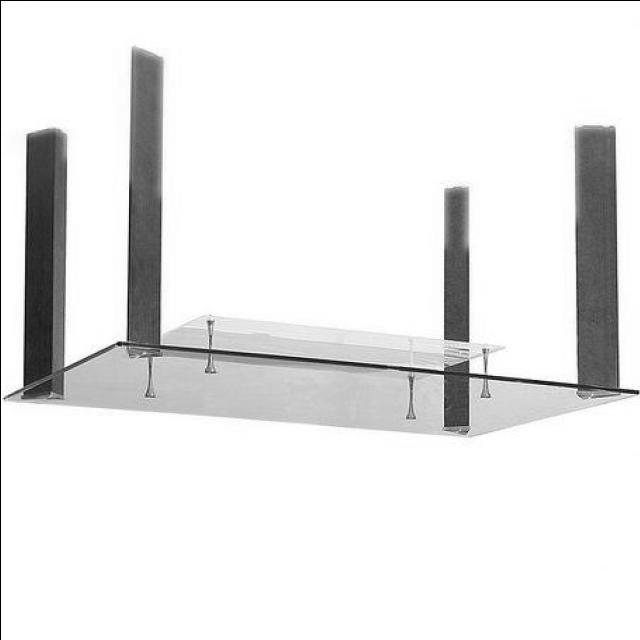table: (0, 46, 639, 438)
